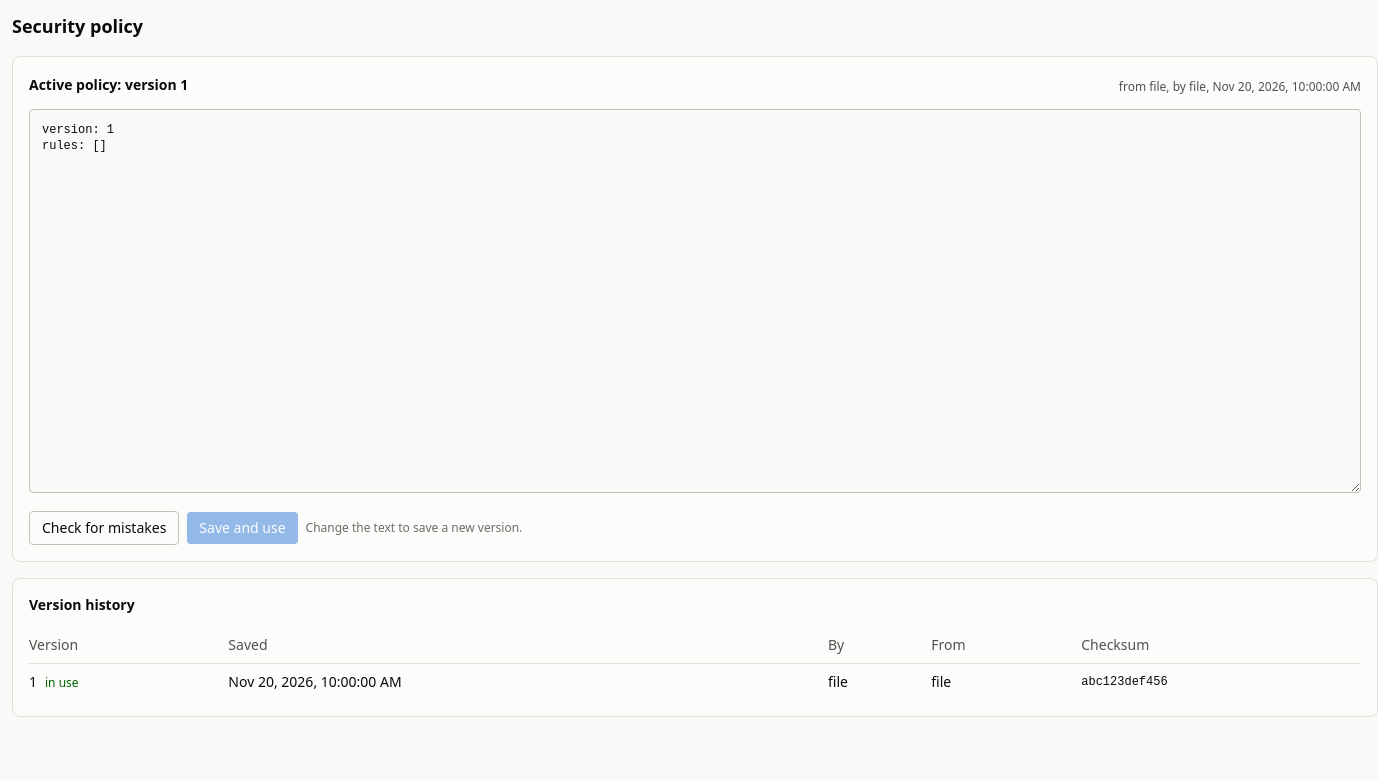
Test case: policy › shows the problem in a broken policy
Click the button "Check for mistakes" at (104,528), box [29, 511, 179, 545]
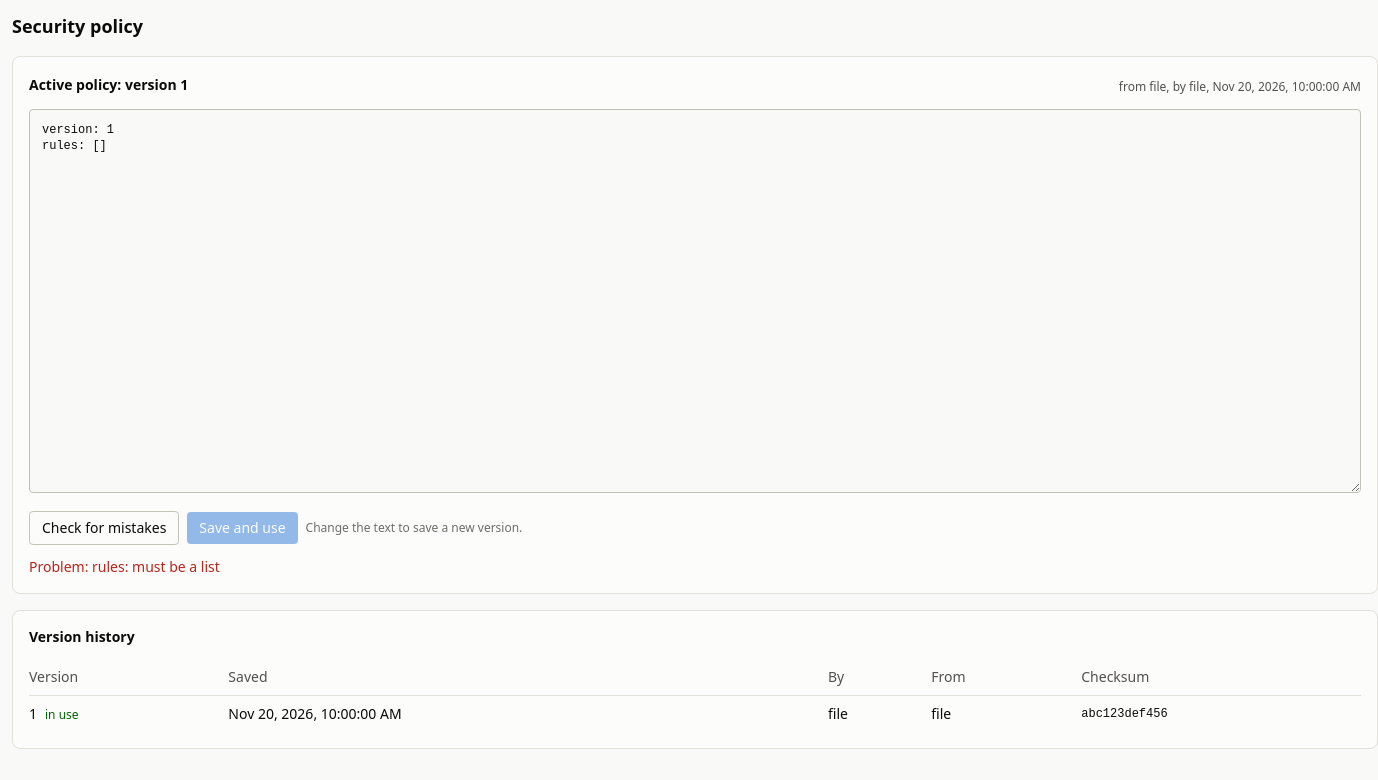
expect the message reads "Problem: rules: must be a list": met, box [29, 557, 220, 576]
